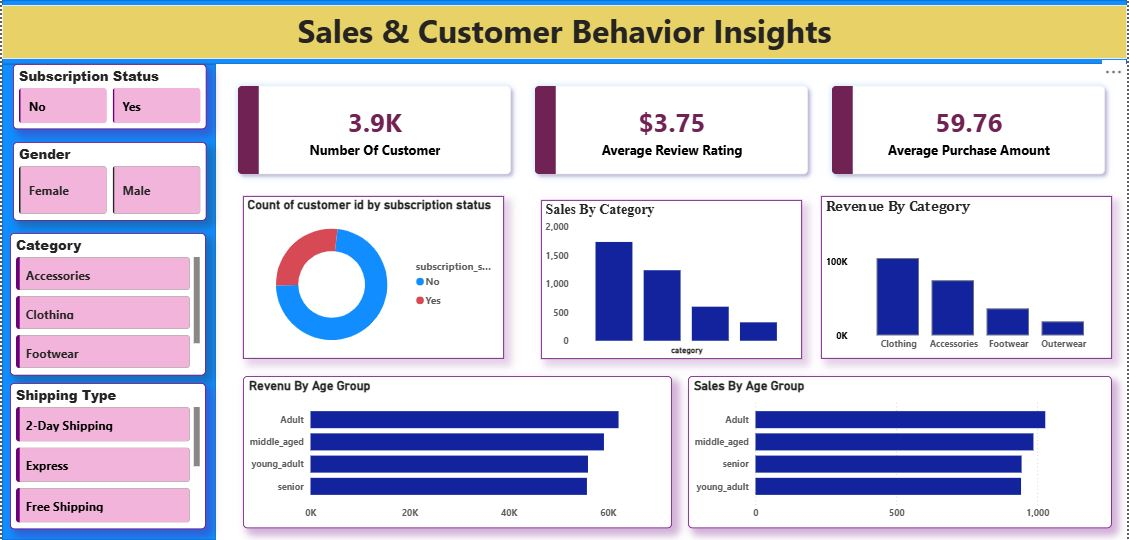

This screenshot's page, from the dashboard's own definition file:
{"tool":"powerbi","page":{"name":"Page 1","canvas":[1500,720],"ordinal":0},"visuals":[{"type":"cardVisual","fields":{"Data":["customer_behavior customer.Number Of Customer","customer_behavior customer.Average Review Rating","customer_behavior customer.Average Purchase Amount"]},"box":[285,85,1215,176.7],"z":0},{"type":"shape","title":"hbjhj","box":[0,0,1500,85],"z":1000},{"type":"textbox","box":[0,6.7,1500,71.7],"z":2000},{"type":"shape","box":[0,85,285,635],"z":3000},{"type":"donutChart","title":"Count of customer id by subscription status","fields":{"Y":["CountNonNull(customer_behavior customer.customer_id)"],"Category":["customer_behavior customer.subscription_status"]},"box":[321.7,261.7,348.3,216.7],"z":4000},{"type":"clusteredColumnChart","title":"Sales By Category","fields":{"Y":["CountNonNull(customer_behavior customer.customer_id)"],"Category":["customer_behavior customer.category"]},"box":[718.3,266.7,348.3,211.7],"z":5000},{"type":"clusteredColumnChart","title":"Revenue By Category","fields":{"Y":["Sum(customer_behavior customer.purchase_amount)"],"Category":["customer_behavior customer.category"]},"box":[1091.7,261.7,388.3,216.7],"z":6000},{"type":"clusteredBarChart","title":"Revenu By Age Group","fields":{"Y":["Sum(customer_behavior customer.purchase_amount)"],"Category":["customer_behavior customer.age_group"]},"box":[321.7,501.7,571.7,203.3],"z":7000},{"type":"clusteredBarChart","title":"Sales By Age Group","fields":{"Y":["CountNonNull(customer_behavior customer.customer_id)"],"Category":["customer_behavior customer.age_group"]},"box":[915,501.7,565,203.3],"z":8000},{"type":"advancedSlicerVisual","title":"Subscription Status","fields":{"Values":["customer_behavior customer.subscription_status"]},"box":[14.5,85.5,258.1,87.1],"z":9000},{"type":"advancedSlicerVisual","title":"Gender","fields":{"Values":["customer_behavior customer.gender"]},"box":[14.5,188.7,258.1,104.8],"z":10000},{"type":"advancedSlicerVisual","title":"Category","fields":{"Values":["customer_behavior customer.category"]},"box":[11.3,311.3,261.3,190.3],"z":11000},{"type":"advancedSlicerVisual","title":"Shipping Type","fields":{"Values":["customer_behavior customer.shipping_type"]},"box":[10.7,510.7,261.3,194.7],"z":12000}]}

Visuals, with their boxes in screenshot pixels (x1, y1, x2, y2), scaled from the page's 1500x720 canvas onto the 1129x540 screenshot:
cardVisual - customer_behavior customer.Number Of Customer x customer_behavior customer.Average Review Rating: 215,64,1128,196
"hbjhj" shape: 0,0,1128,64
textbox: 0,5,1128,59
shape: 0,64,215,539
"Count of customer id by subscription status" donutChart: 242,196,504,359
"Sales By Category" clusteredColumnChart: 541,200,803,359
"Revenue By Category" clusteredColumnChart: 822,196,1114,359
"Revenu By Age Group" clusteredBarChart: 242,376,672,529
"Sales By Age Group" clusteredBarChart: 689,376,1114,529
"Subscription Status" advancedSlicerVisual: 11,64,205,129
"Gender" advancedSlicerVisual: 11,142,205,220
"Category" advancedSlicerVisual: 9,233,205,376
"Shipping Type" advancedSlicerVisual: 8,383,205,529
